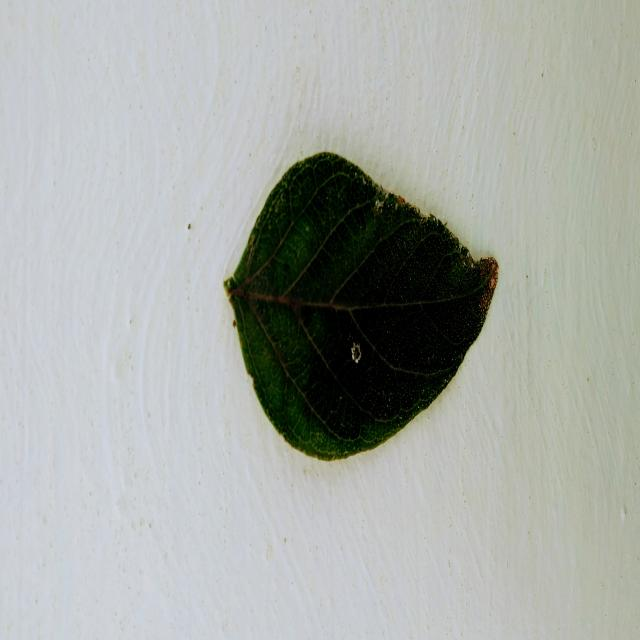Parijatha: (225, 153, 498, 460)
